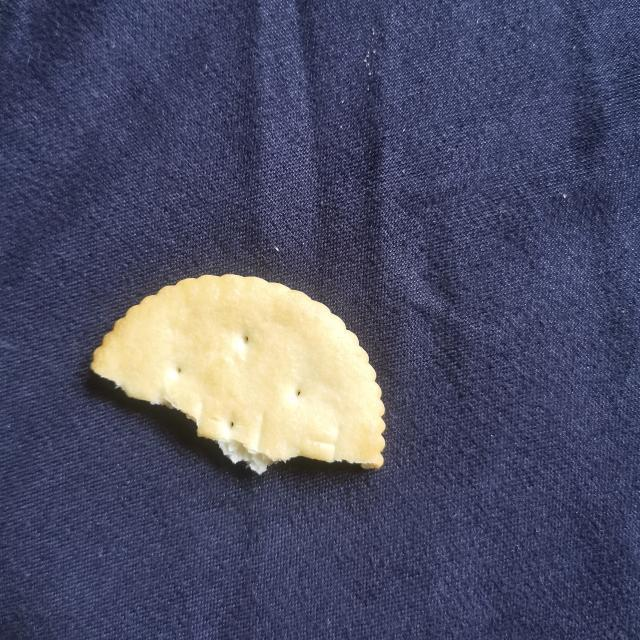Broken: (89, 272, 387, 475)
